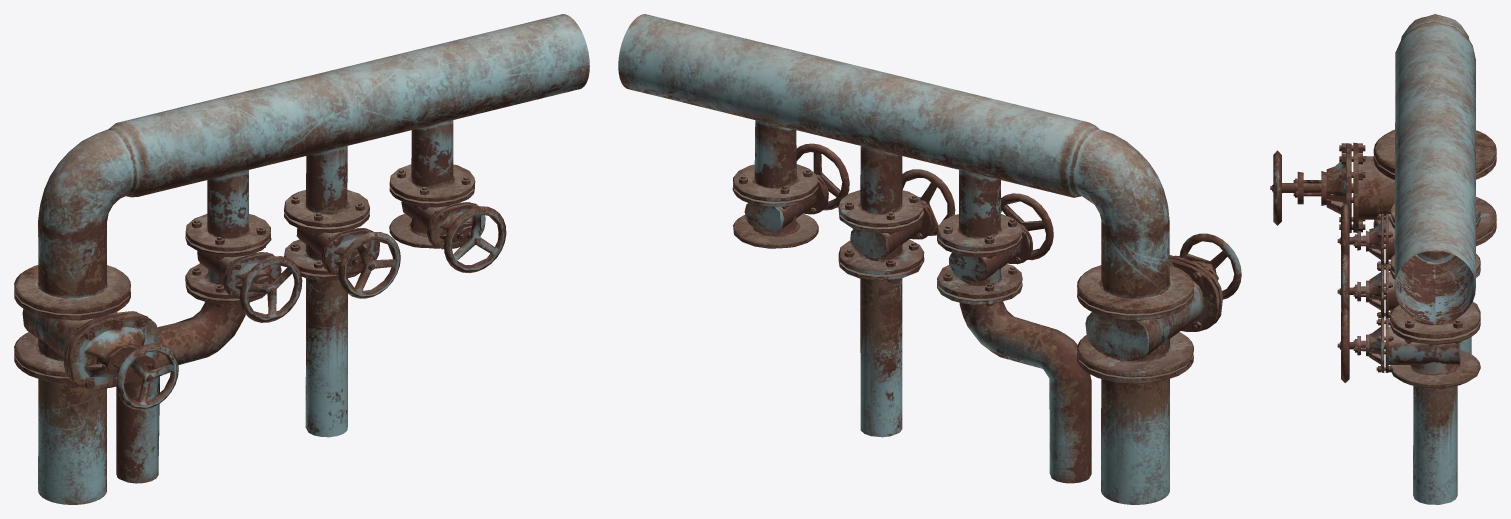
File: pipes.glb
The picture shows the model from 3 angles, left to right: view 1: azimuth 30°, elevation 25°; view 2: azimuth 150°, elevation 25°; view 3: azimuth 270°, elevation 25°; orthographic projection. The views are drawn at different scales.
Visible parts, largest first — view 1: rusty_tubes_rusty_0; view 2: rusty_tubes_rusty_0; view 3: rusty_tubes_rusty_0.
Boxes of the visible parts, x1,y1,x2,y2 form: rusty_tubes_rusty_0: (14,14,589,504); rusty_tubes_rusty_0: (618,14,1241,504); rusty_tubes_rusty_0: (1270,14,1496,504).
Size of the model in its own units: 2.46 by 1.51 by 0.8362.
Materials: 1 (1 with a texture image).
